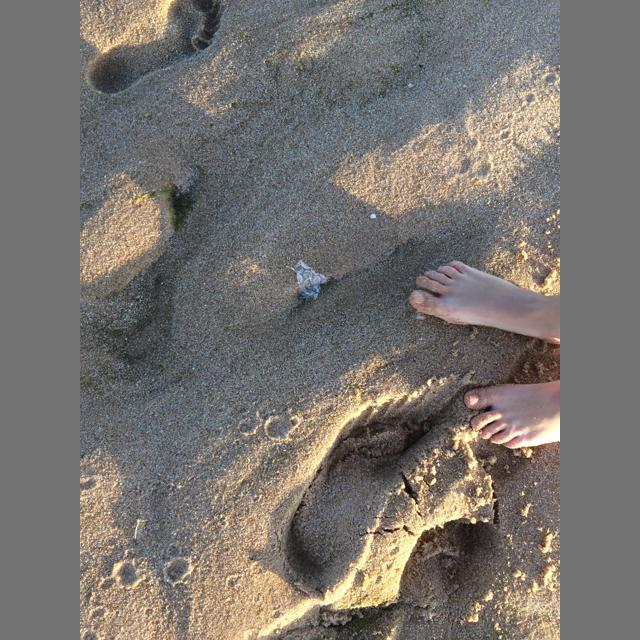litter: (286, 259, 326, 300)
